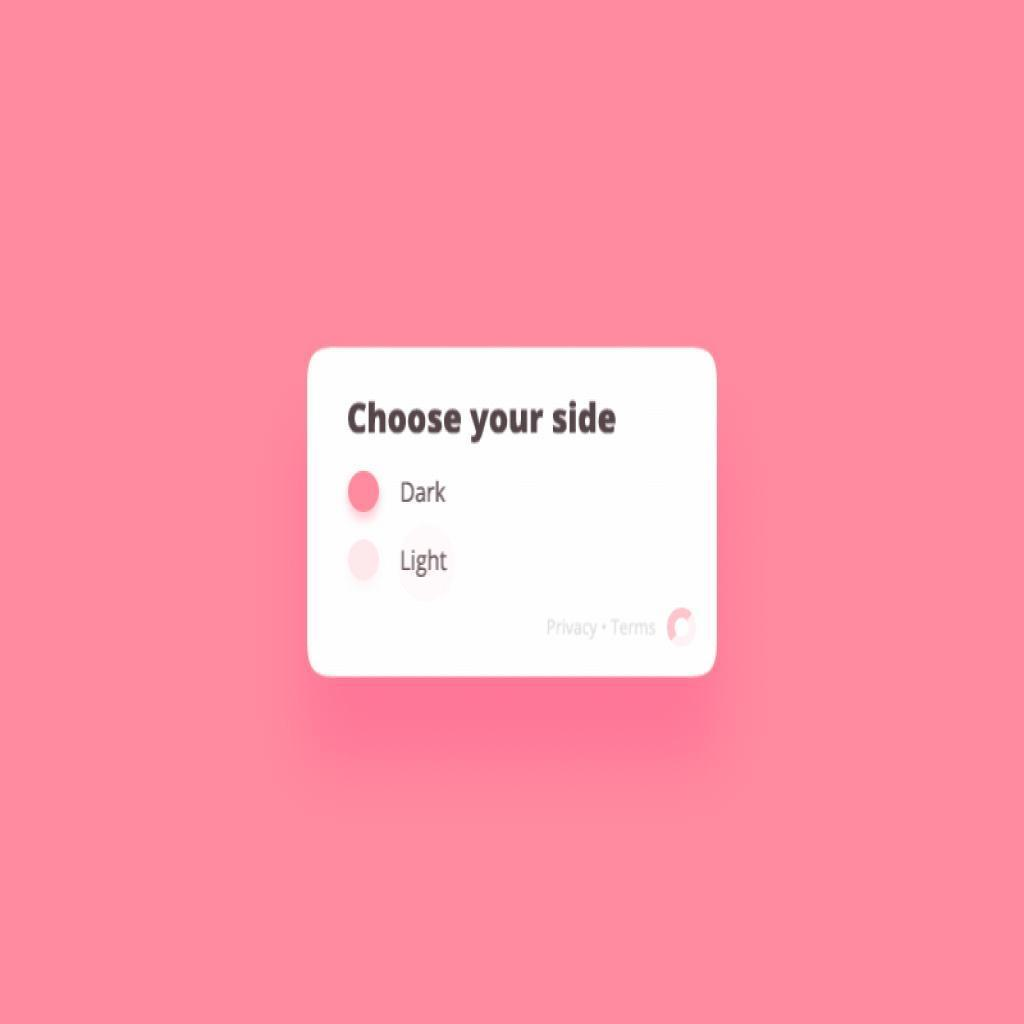radio: (341, 534, 390, 588), (339, 471, 387, 522)
